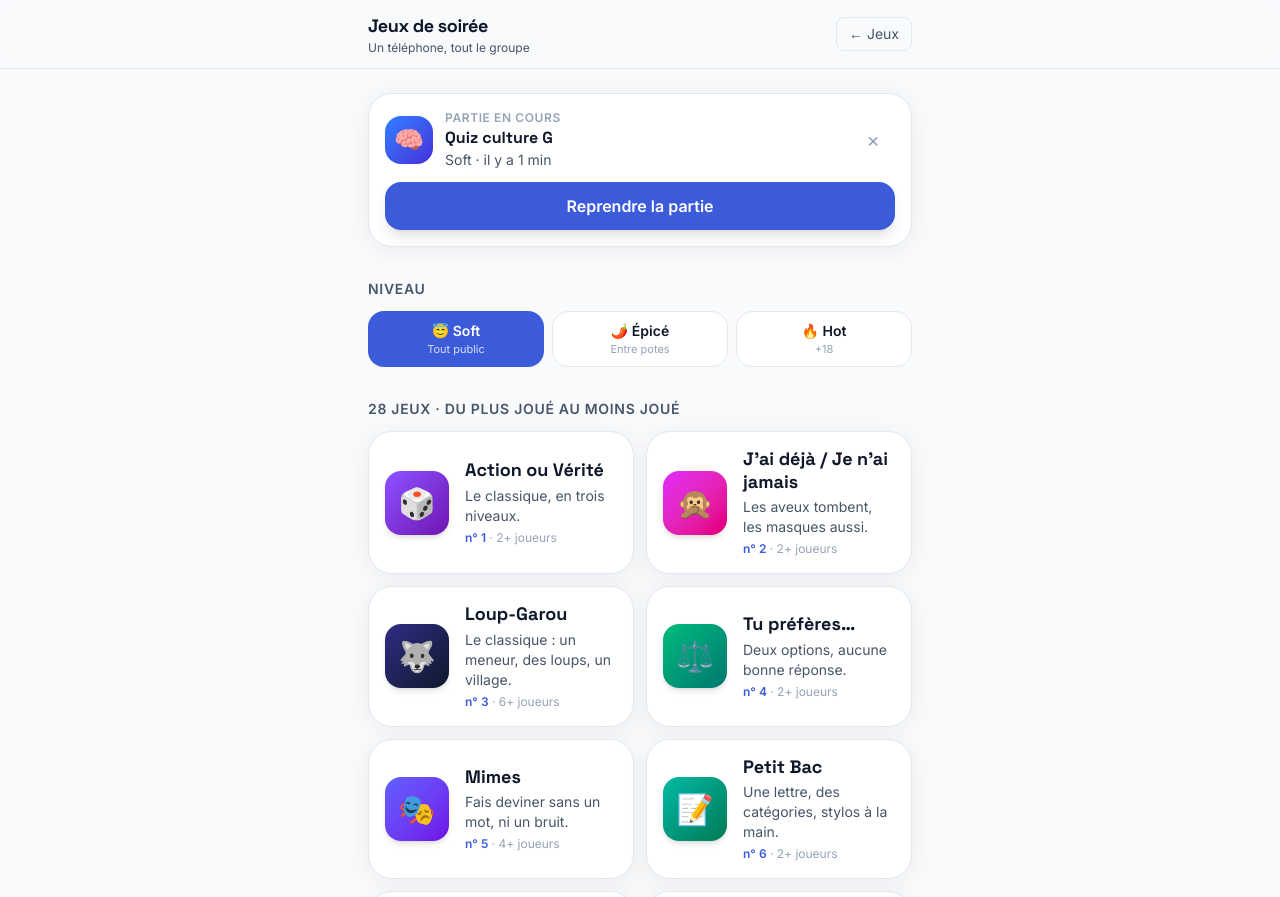
Test case: accueil des jeux de soirée › propose de reprendre la dernière partie, ou de l’abandonner
The width and height of the screenshot is (1280, 897).
Expected: the text "Quiz culture G" is shown, [445,127,553,148]
Click the button named "Abandonner la partie de Quiz culture G".
click(873, 140)  # box [851,118,895,162]
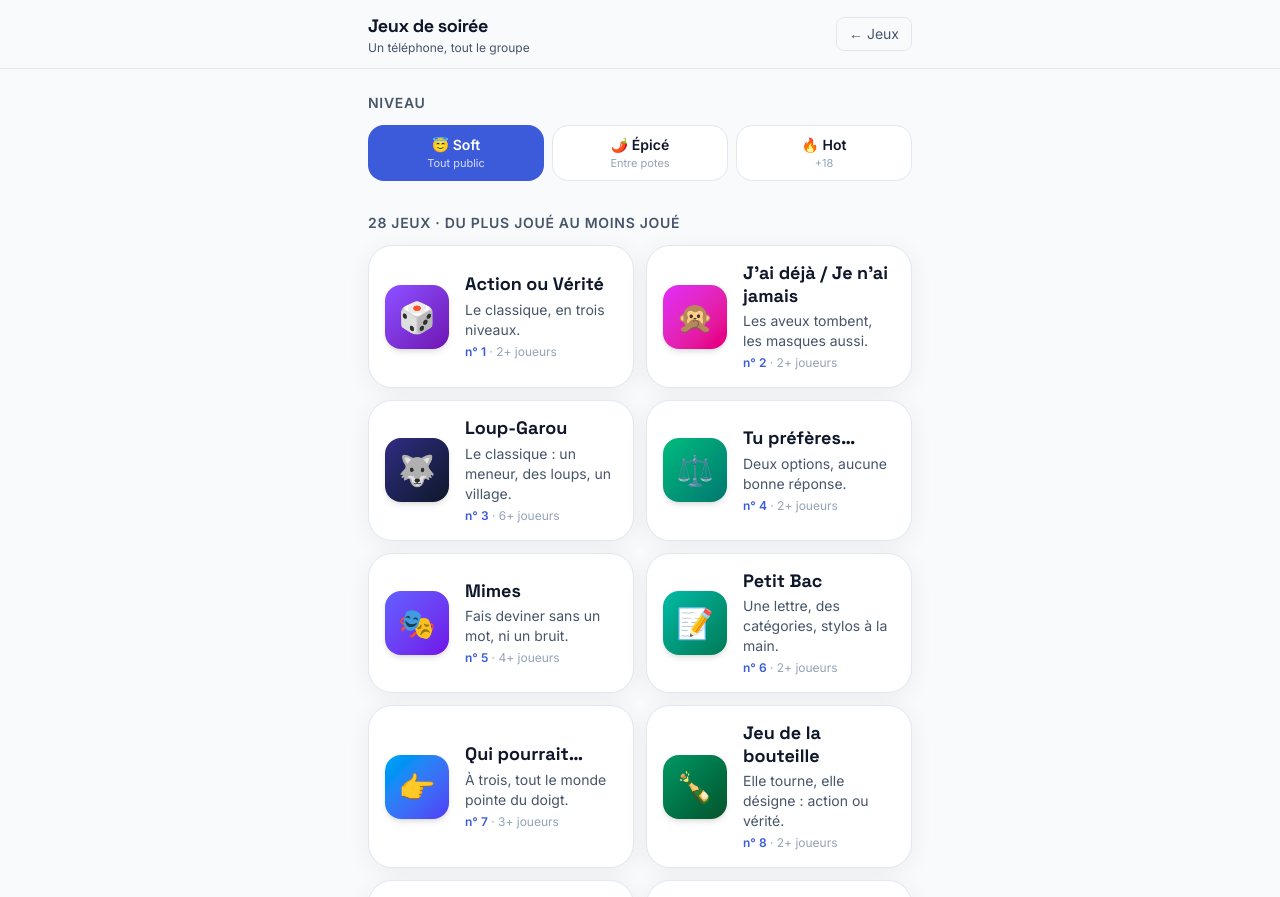
Result: the text "Partie en cours" is gone
